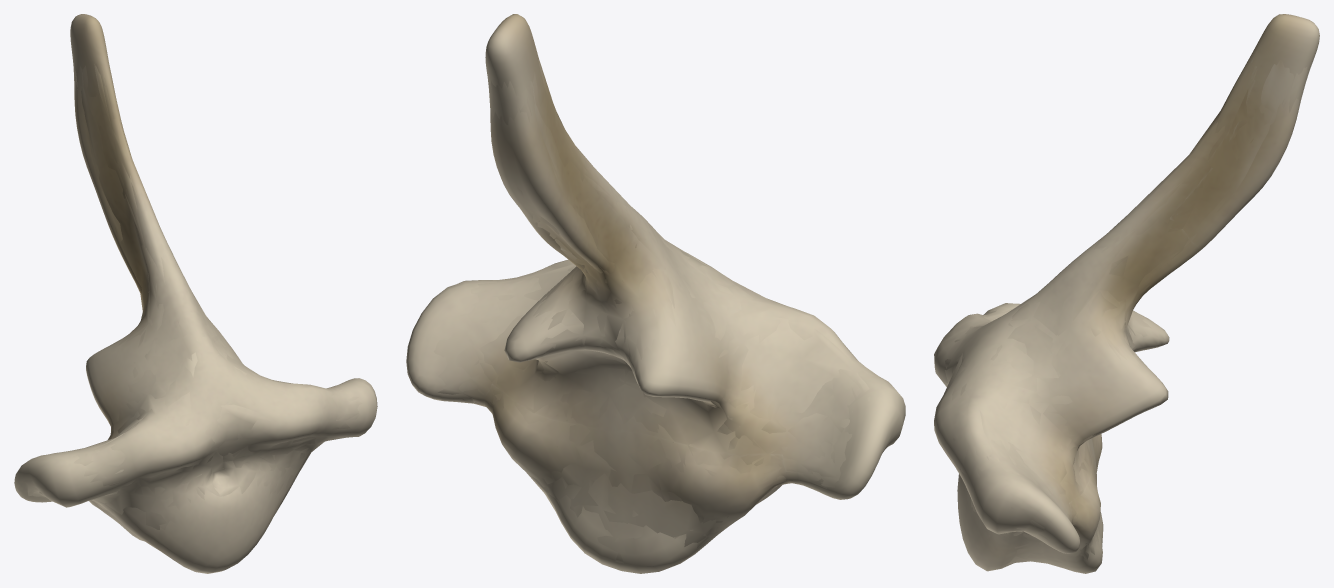
The model's file is vertebrae thoracicae 05.fbx.
The picture shows the model from 3 angles, left to right: view 1: azimuth 30°, elevation 25°; view 2: azimuth 150°, elevation 25°; view 3: azimuth 270°, elevation 25°; orthographic projection. The views are drawn at different scales.
Parts seen in each view (by area): view 1: vertebrae thoracicae 05 high, vertebrae thoracicae 05 low, vertebrae thoracicae 05; view 2: vertebrae thoracicae 05 high, vertebrae thoracicae 05 low, vertebrae thoracicae 05; view 3: vertebrae thoracicae 05 high, vertebrae thoracicae 05 low, vertebrae thoracicae 05.
Part boxes in pixels (x1,y1,x2,y2): vertebrae thoracicae 05 high: [14, 14, 377, 573]; vertebrae thoracicae 05 low: [33, 64, 358, 529]; vertebrae thoracicae 05: [23, 55, 362, 529]; vertebrae thoracicae 05 high: [406, 14, 905, 573]; vertebrae thoracicae 05 low: [438, 59, 887, 546]; vertebrae thoracicae 05: [423, 57, 891, 563]; vertebrae thoracicae 05 high: [934, 14, 1319, 573]; vertebrae thoracicae 05 low: [942, 72, 1299, 564]; vertebrae thoracicae 05: [951, 54, 1310, 568].
Bounding box in the file's own units: 10.79 × 14.07 × 8.94.
